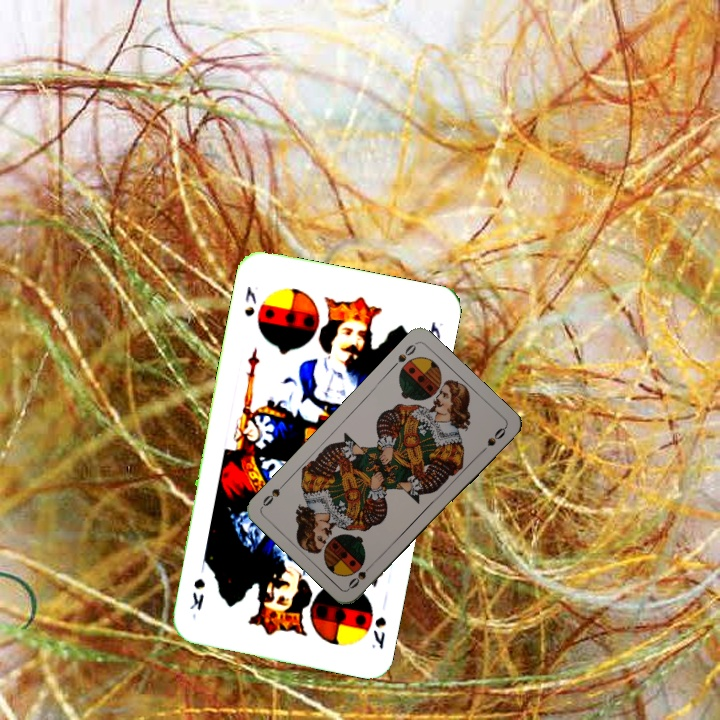SK: (367, 612, 389, 652), (240, 282, 259, 319)
SO: (344, 558, 377, 591), (387, 339, 419, 372)
